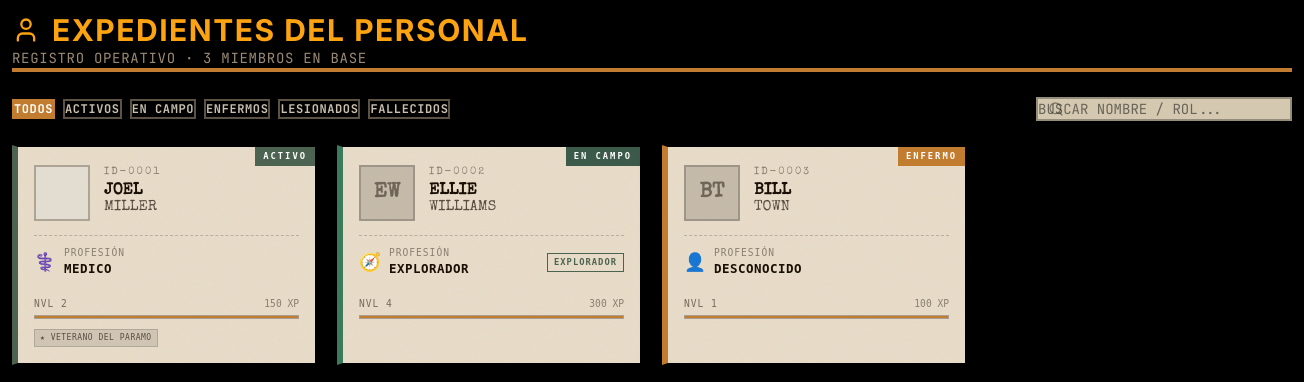
Test: MembersView Component › filters members by status button clicks
Note: Click 'EN CAMPO' (exploring) filter button
Click the button "EN CAMPO" at (163, 108), box [130, 98, 196, 118]
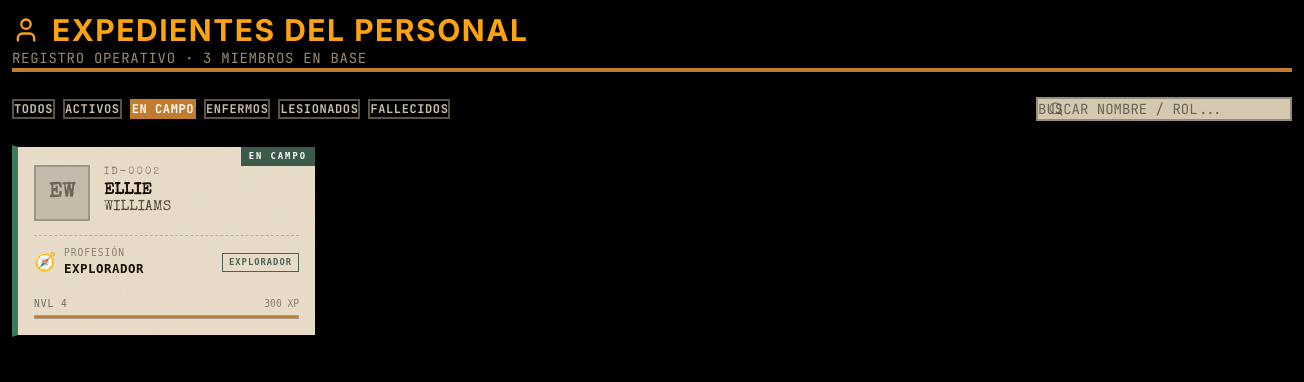
Check: the text "Ellie" is shown, box [104, 183, 152, 199]
Check: the text "Joel" is gone
